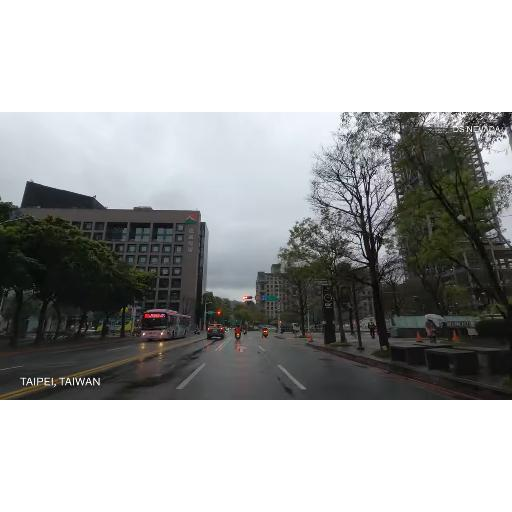Car: (140, 308, 192, 342), (94, 318, 138, 334), (206, 324, 226, 340), (276, 322, 300, 334), (258, 324, 278, 332), (222, 326, 228, 332), (224, 327, 230, 331)
